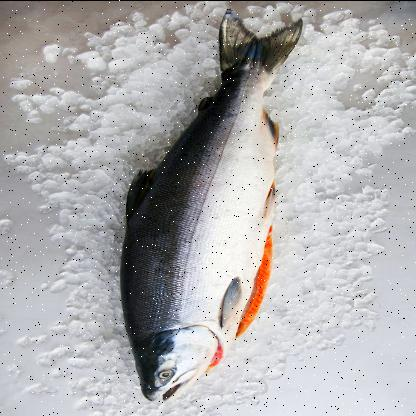fish: (120, 8, 302, 401)
